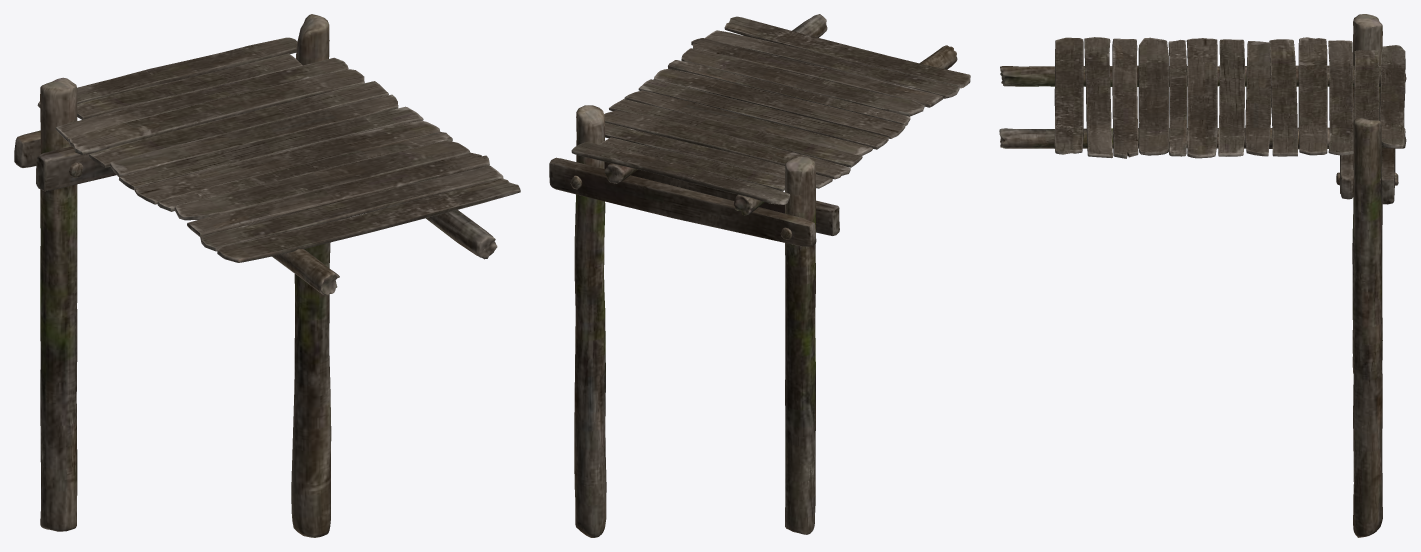
File: pier_b.glb
3 renders of one model, left to right at view 1: azimuth 30°, elevation 25°; view 2: azimuth 150°, elevation 25°; view 3: azimuth 270°, elevation 25°, orthographic. The views are drawn at different scales.
Parts seen in each view (by area): view 1: modular_wooden_pier_section_02; view 2: modular_wooden_pier_section_02; view 3: modular_wooden_pier_section_02.
Boxes of the visible parts, x1=… form: modular_wooden_pier_section_02: x1=14, y1=14, x2=520, y2=537; modular_wooden_pier_section_02: x1=549, y1=14, x2=970, y2=537; modular_wooden_pier_section_02: x1=999, y1=14, x2=1406, y2=537.
Bounding box in the file's own units: 2.51 × 3.84 × 3.39.
Materials: 2 (2 with a texture image).
